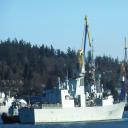Fragata: (18, 49, 128, 126)
